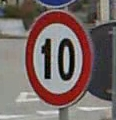limite 10: (23, 10, 90, 106)
